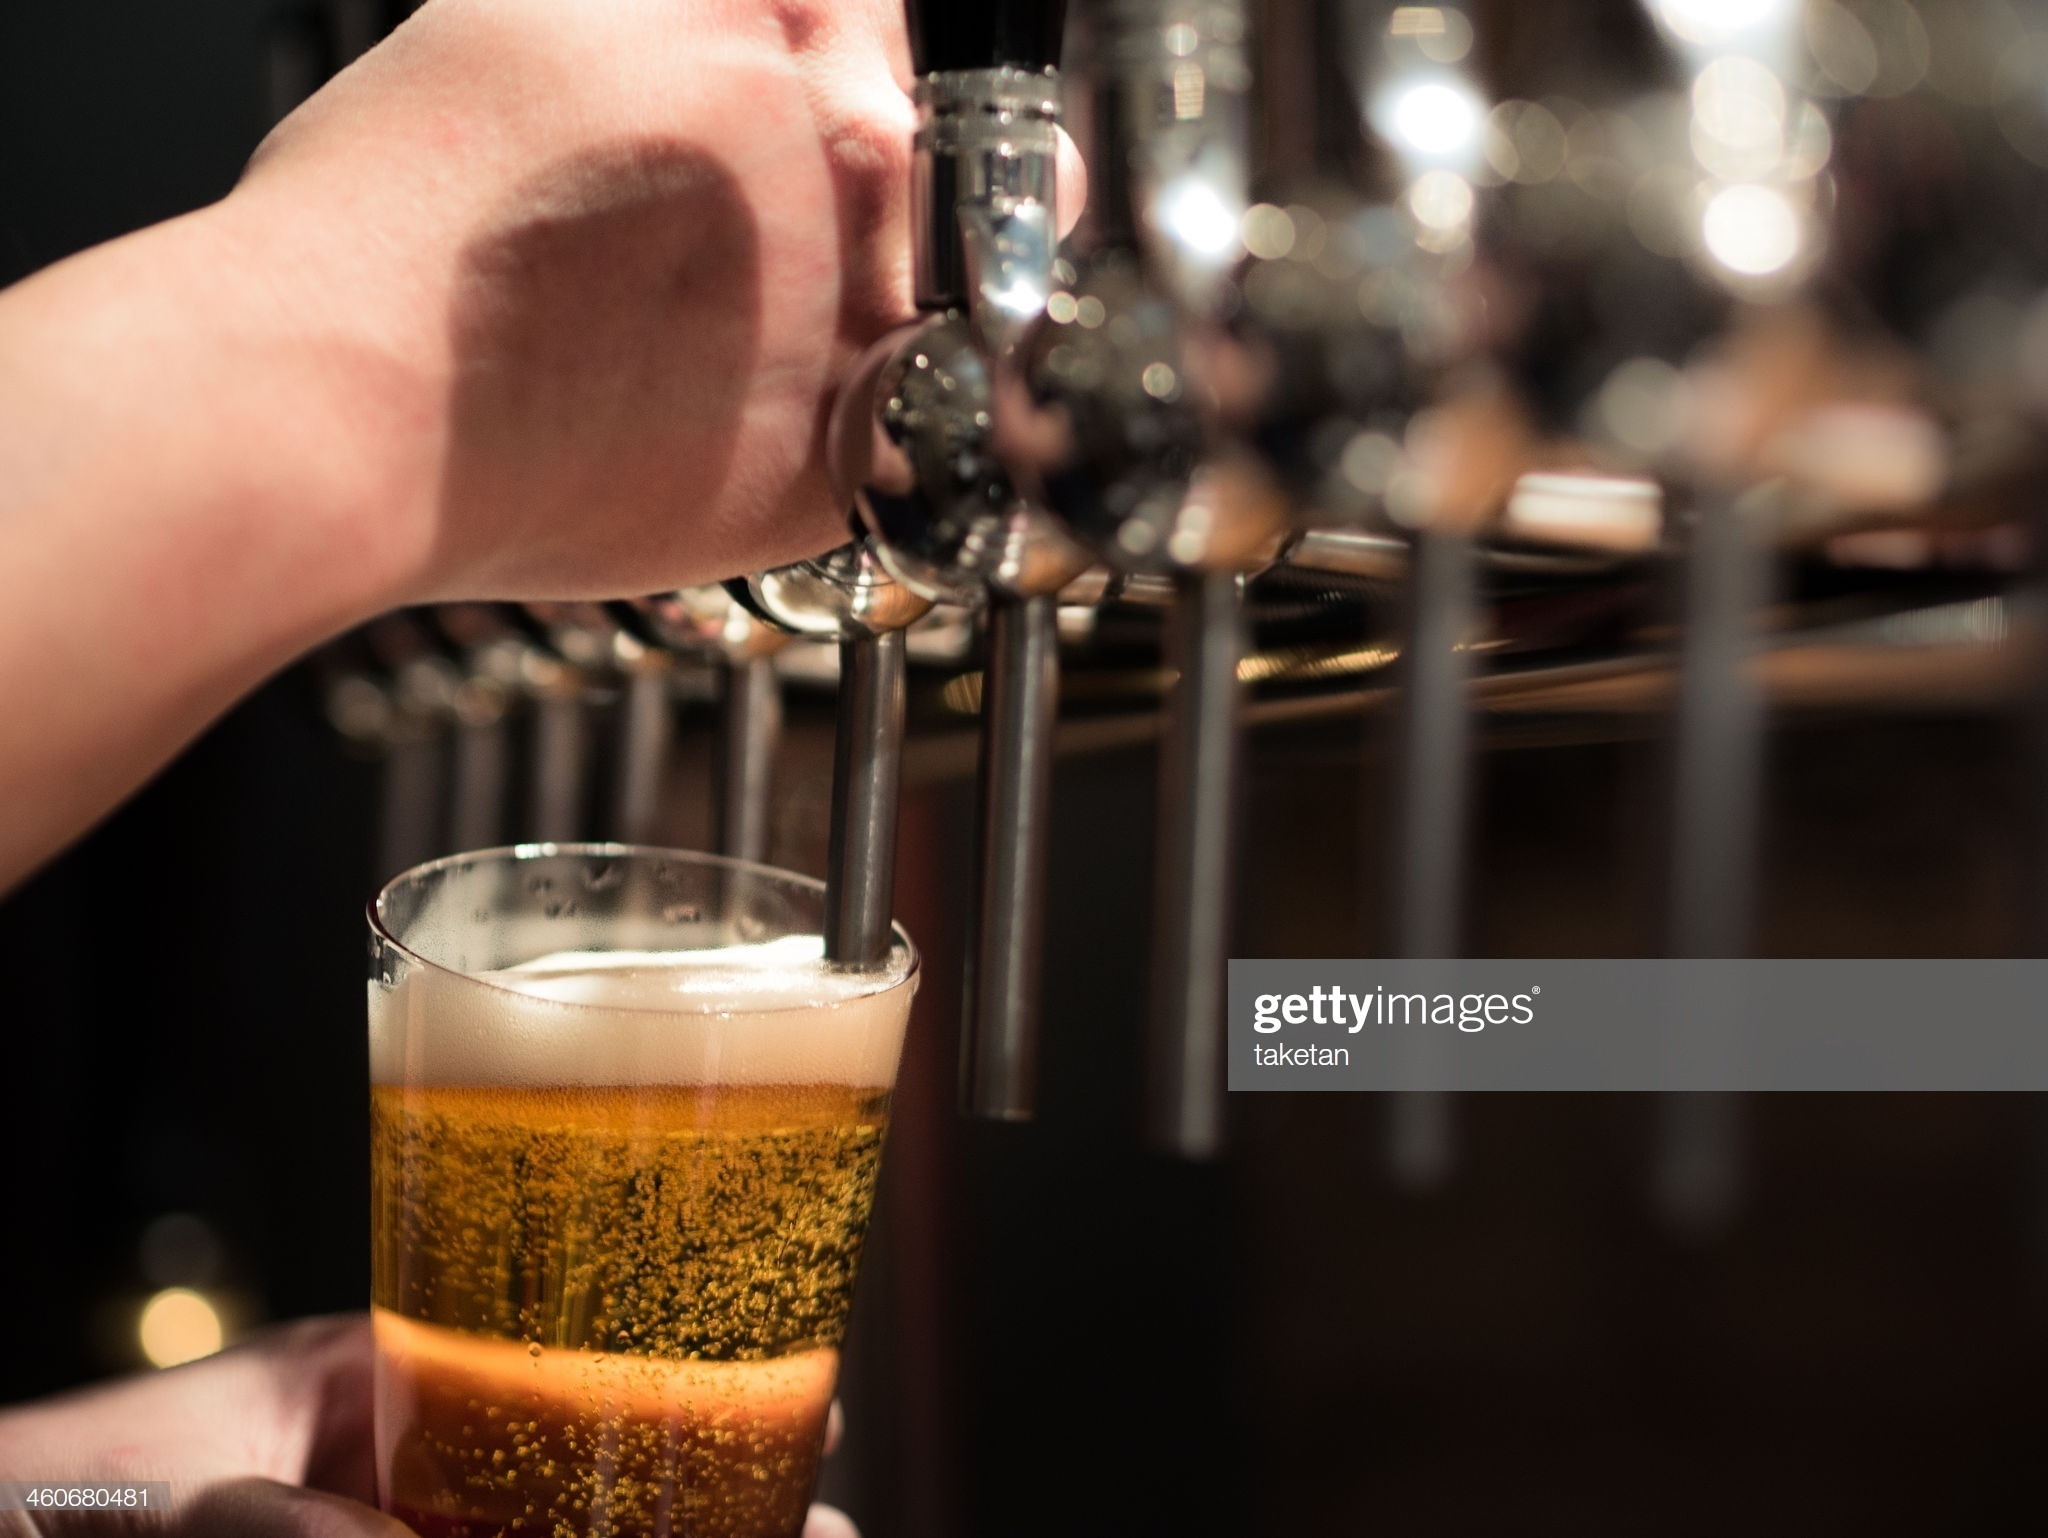whiskey: (380, 834, 879, 1538)
